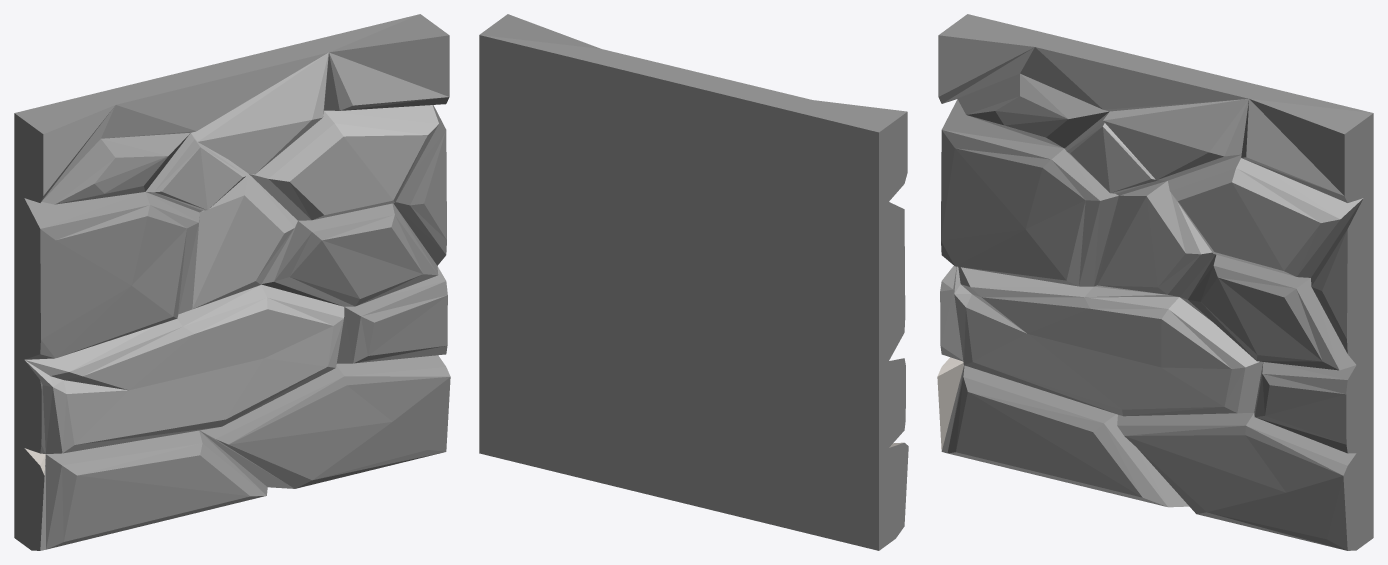
The model's file is _FOUNDATION_03_1.fbx.
The picture shows the model from 3 angles, left to right: view 1: azimuth 30°, elevation 25°; view 2: azimuth 150°, elevation 25°; view 3: azimuth 330°, elevation 25°; orthographic projection.
Visible parts, largest first — view 1: FOUNDATION_03_1; view 2: FOUNDATION_03_1; view 3: FOUNDATION_03_1.
Boxes of the visible parts, x1,y1,x2,y2 form: FOUNDATION_03_1: [14, 14, 450, 550]; FOUNDATION_03_1: [479, 14, 908, 550]; FOUNDATION_03_1: [937, 14, 1373, 550].
Size of the model in its own units: 100 by 100 by 13.86.
